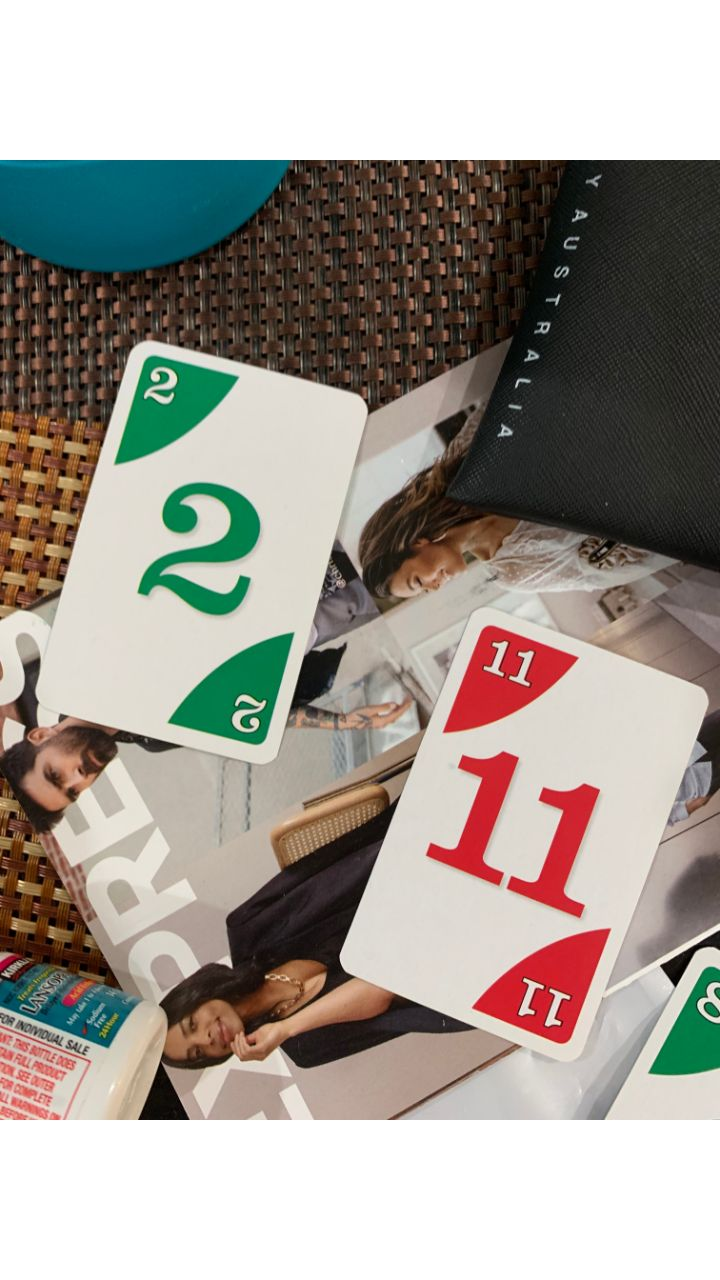eleven: (334, 603, 709, 1056)
two: (29, 337, 373, 771)
